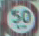Speed limit: (1, 0, 38, 34)
